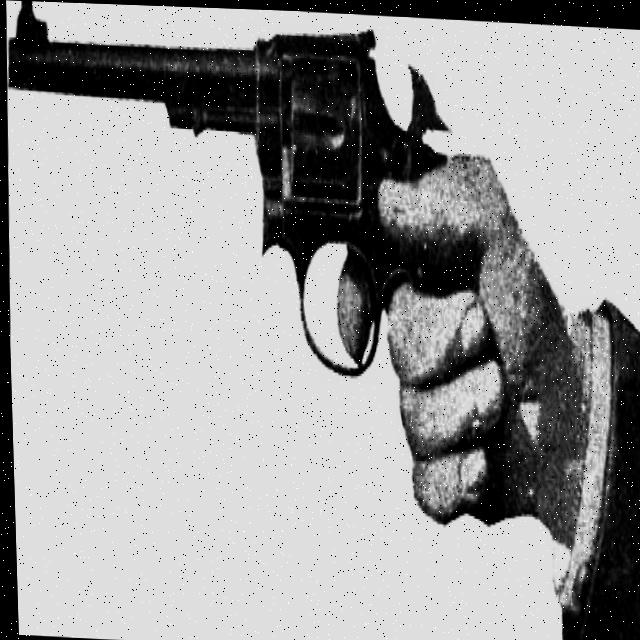pistol: (1, 8, 460, 383)
